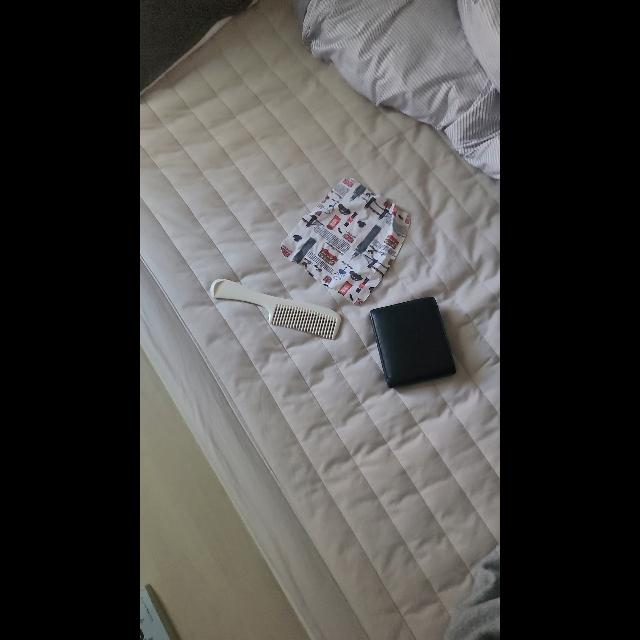COMB: (210, 280, 342, 340)
Glasses cleaning cloth: (280, 177, 412, 306)
WALLET: (369, 296, 456, 389)
